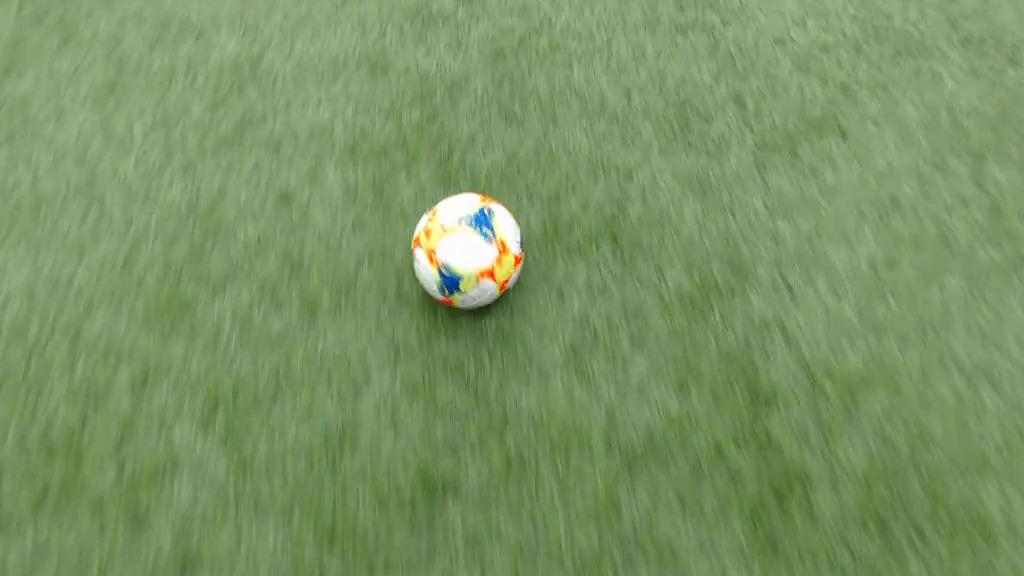ball: (412, 191, 523, 311)
